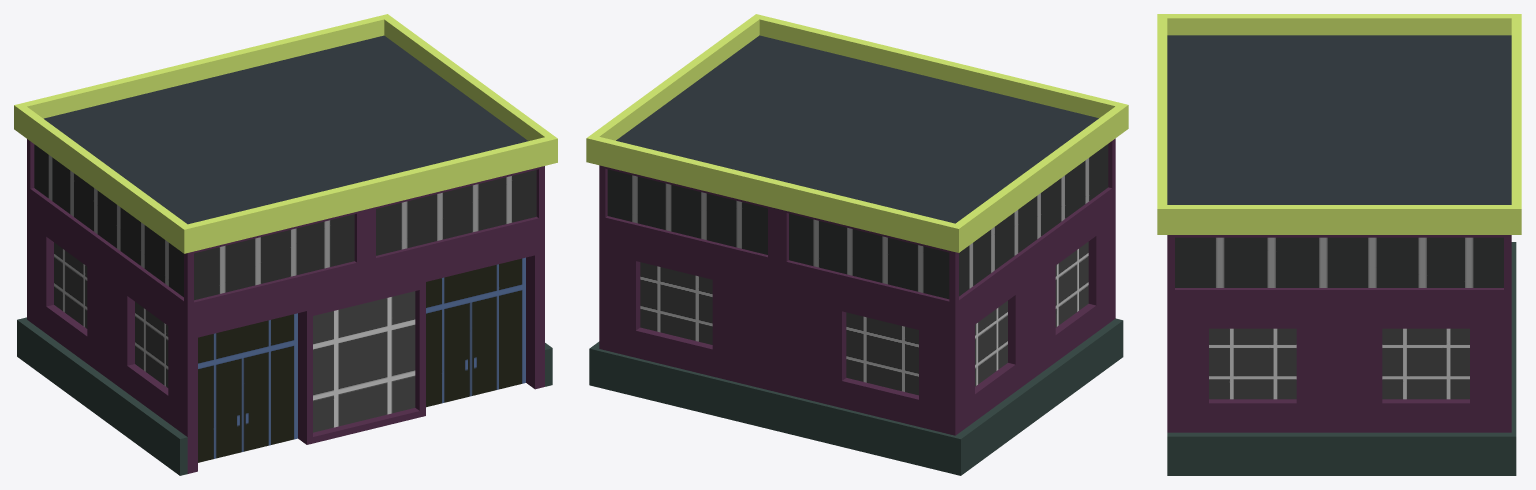
Rendered from building14c.FBX.
The picture shows the model from 3 angles, left to right: view 1: azimuth 30°, elevation 25°; view 2: azimuth 150°, elevation 25°; view 3: azimuth 270°, elevation 25°; orthographic projection. The views are drawn at different scales.
Parts seen in each view (by area): view 1: building14c; view 2: building14c; view 3: building14c.
Part boxes in pixels (bbox=[...]): building14c: bbox=[14, 14, 557, 475]; building14c: bbox=[586, 14, 1128, 475]; building14c: bbox=[1157, 14, 1521, 475].
Bounding box in the file's own units: 17.35 × 11.08 × 13.69.
